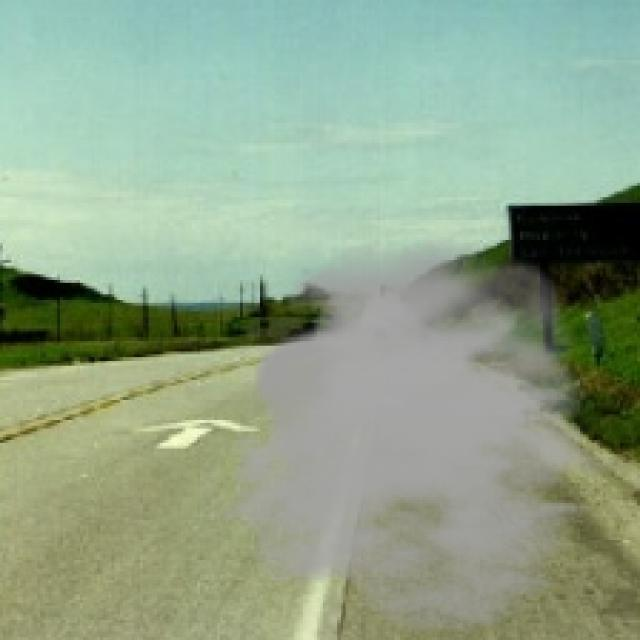Smoke: (217, 237, 634, 634)
